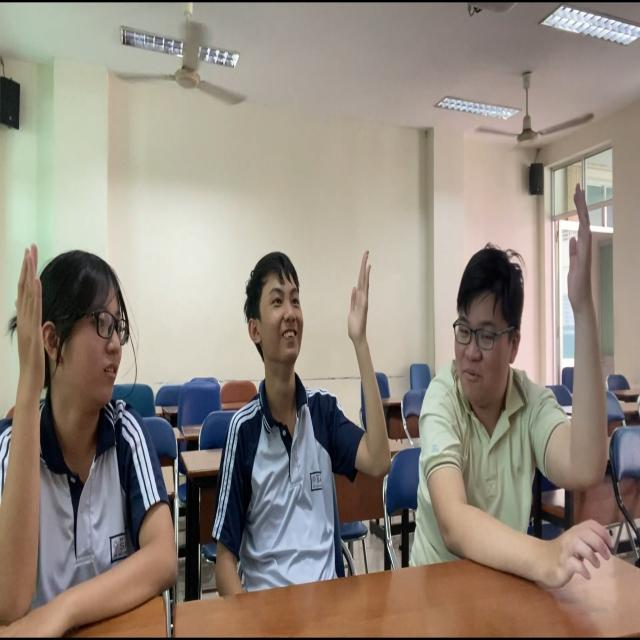raise_hand: (1, 211, 184, 640), (215, 235, 392, 617)
